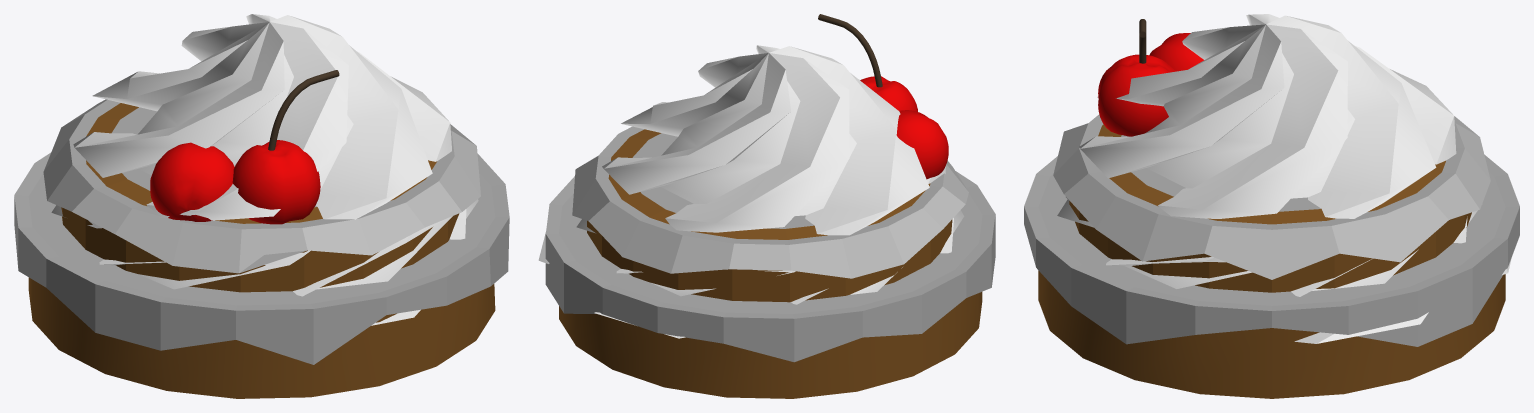
File: Cake.fbx
The picture shows the model from 3 angles, left to right: view 1: azimuth 30°, elevation 25°; view 2: azimuth 150°, elevation 25°; view 3: azimuth 270°, elevation 25°; orthographic projection. The views are drawn at different scales.
Visible parts, largest first — view 1: pCylinder2, pasted__pCone4, pasted__pSphere15, pasted__pSphere16; view 2: pCylinder2, pasted__pCone4, pasted__pSphere16, pasted__pSphere15; view 3: pCylinder2, pasted__pCone4, pasted__pSphere15, pasted__pSphere16.
Boxes of the visible parts, x1,y1,x2,y2 form: pCylinder2: [14, 99, 509, 398]; pasted__pCone4: [51, 14, 478, 325]; pasted__pSphere15: [232, 70, 339, 224]; pasted__pSphere16: [150, 142, 234, 221]; pCylinder2: [545, 126, 995, 398]; pasted__pCone4: [538, 45, 964, 338]; pasted__pSphere16: [896, 110, 948, 179]; pasted__pSphere15: [818, 14, 917, 111]; pCylinder2: [1024, 114, 1519, 398]; pasted__pCone4: [1057, 14, 1511, 343]; pasted__pSphere15: [1098, 19, 1175, 136]; pasted__pSphere16: [1149, 33, 1203, 71].
Size of the model in its own units: 2.89 by 1.77 by 2.85.
